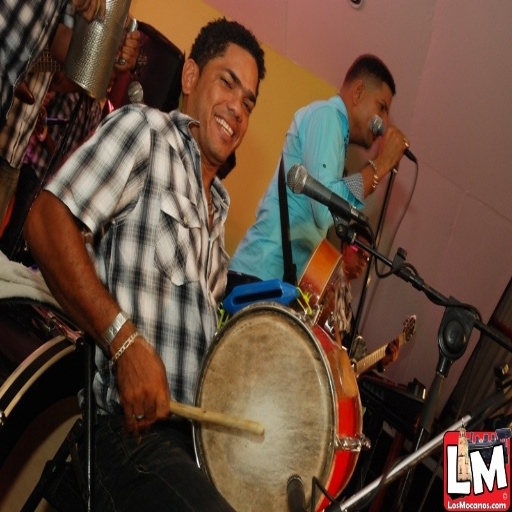hand: (98, 304, 164, 448), (380, 122, 410, 167), (114, 29, 145, 71), (71, 0, 106, 23), (385, 333, 401, 367)
